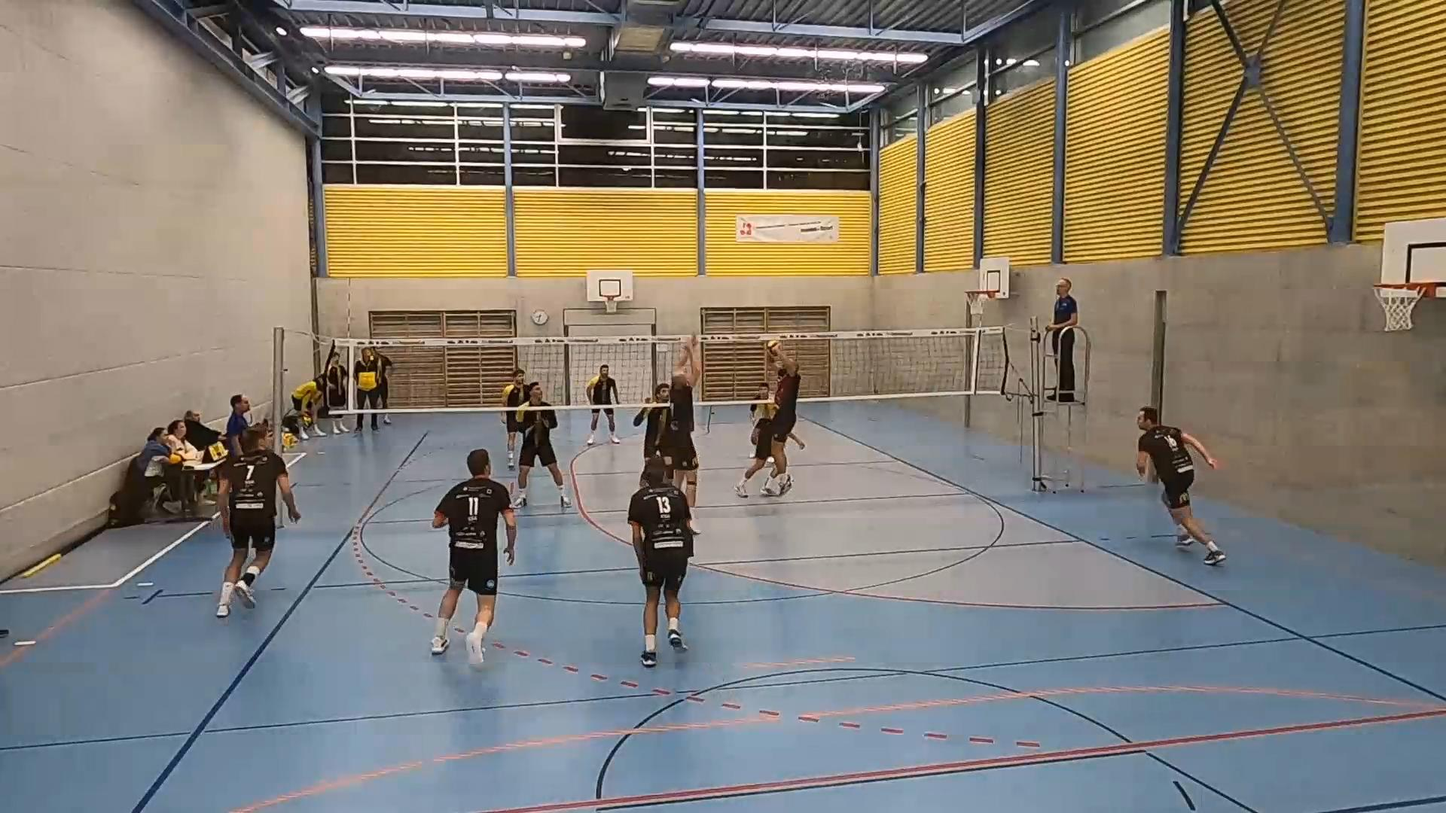Player: (431, 449, 514, 664), (216, 427, 300, 617), (1137, 407, 1225, 565), (627, 459, 693, 667), (513, 382, 571, 507), (660, 336, 702, 506), (735, 383, 776, 498), (633, 383, 668, 461), (502, 368, 526, 469), (587, 407, 620, 445)
Set: (758, 345, 805, 495)
ball: (765, 340, 785, 351)
